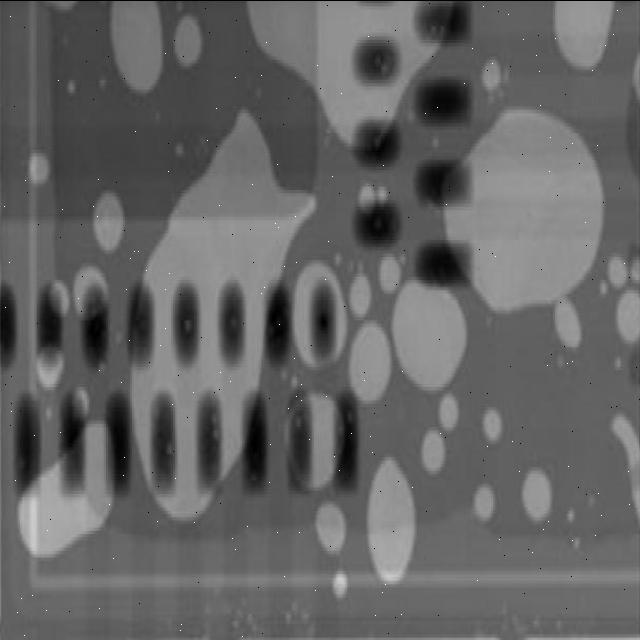void: (133, 111, 315, 517), (441, 109, 603, 312), (248, 0, 440, 94), (20, 422, 113, 556), (391, 281, 466, 389), (367, 457, 417, 583), (293, 262, 347, 367), (110, 0, 163, 92), (302, 392, 338, 490), (349, 322, 391, 403), (612, 414, 640, 525), (92, 190, 125, 251), (72, 265, 107, 321), (315, 503, 346, 554), (521, 469, 551, 520), (174, 15, 201, 65), (554, 299, 581, 347), (617, 291, 640, 343), (421, 428, 445, 473), (36, 350, 63, 386), (348, 275, 371, 317), (379, 256, 401, 292), (473, 486, 494, 520), (289, 406, 301, 463), (483, 408, 503, 442), (358, 184, 387, 206), (482, 59, 502, 90), (332, 571, 348, 597), (610, 260, 626, 278), (61, 79, 78, 94)
